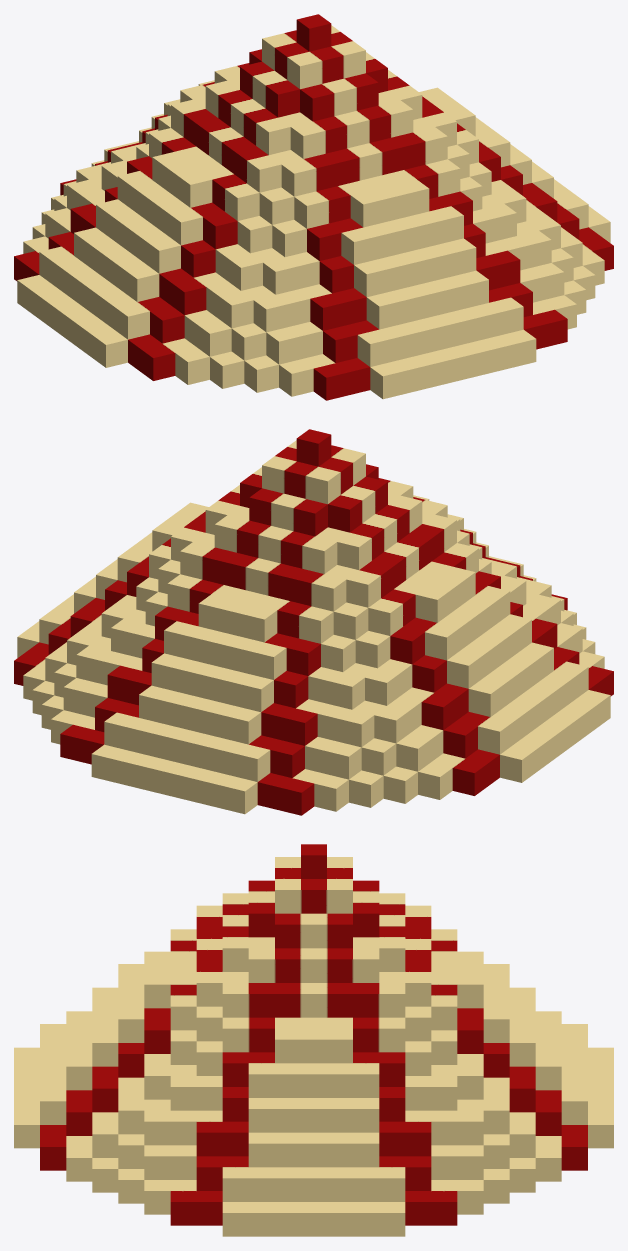
The model's file is fourthModelRoof.fbx.
3 views of the same model, one above another, from view 1: azimuth 30°, elevation 25°; view 2: azimuth 150°, elevation 25°; view 3: azimuth 270°, elevation 25° (orthographic). The views are drawn at different scales.
Visible parts, largest first — view 1: Cylinder; view 2: Cylinder; view 3: Cylinder.
Boxes of the visible parts, bbox=[...] form: Cylinder: bbox=[14, 14, 613, 400]; Cylinder: bbox=[14, 429, 613, 815]; Cylinder: bbox=[14, 844, 613, 1236].
Size of the model in its own units: 23 by 11 by 23.
1 material, 1 textured.
